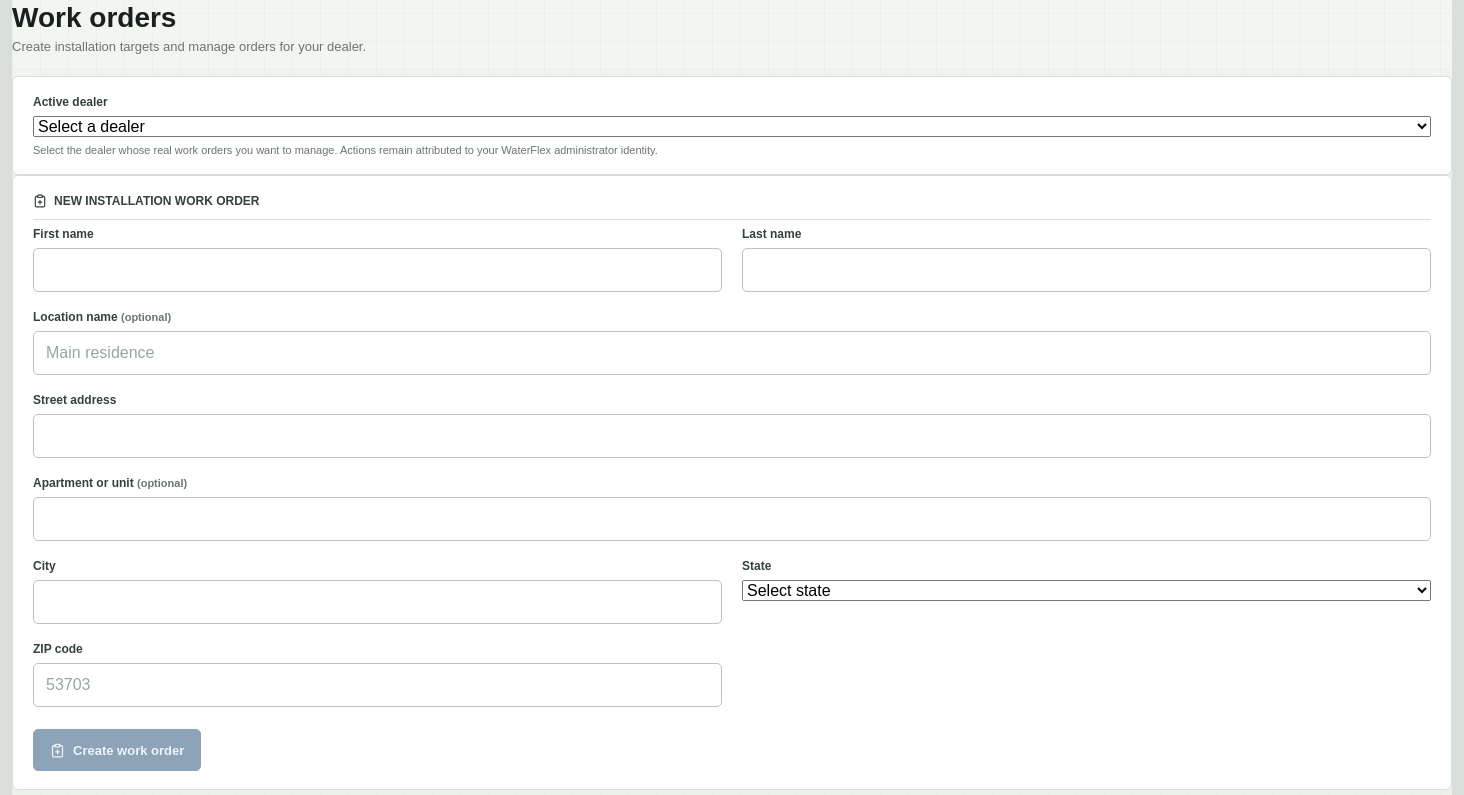
it: WorkOrdersPage › clears dealer-specific state and refreshes when the preview dealer changes
Select "North Star Water Systems" in the dropdown labelled "Active dealer". click: (732, 127)
box: [33,116,1431,137]
(page scrolled)
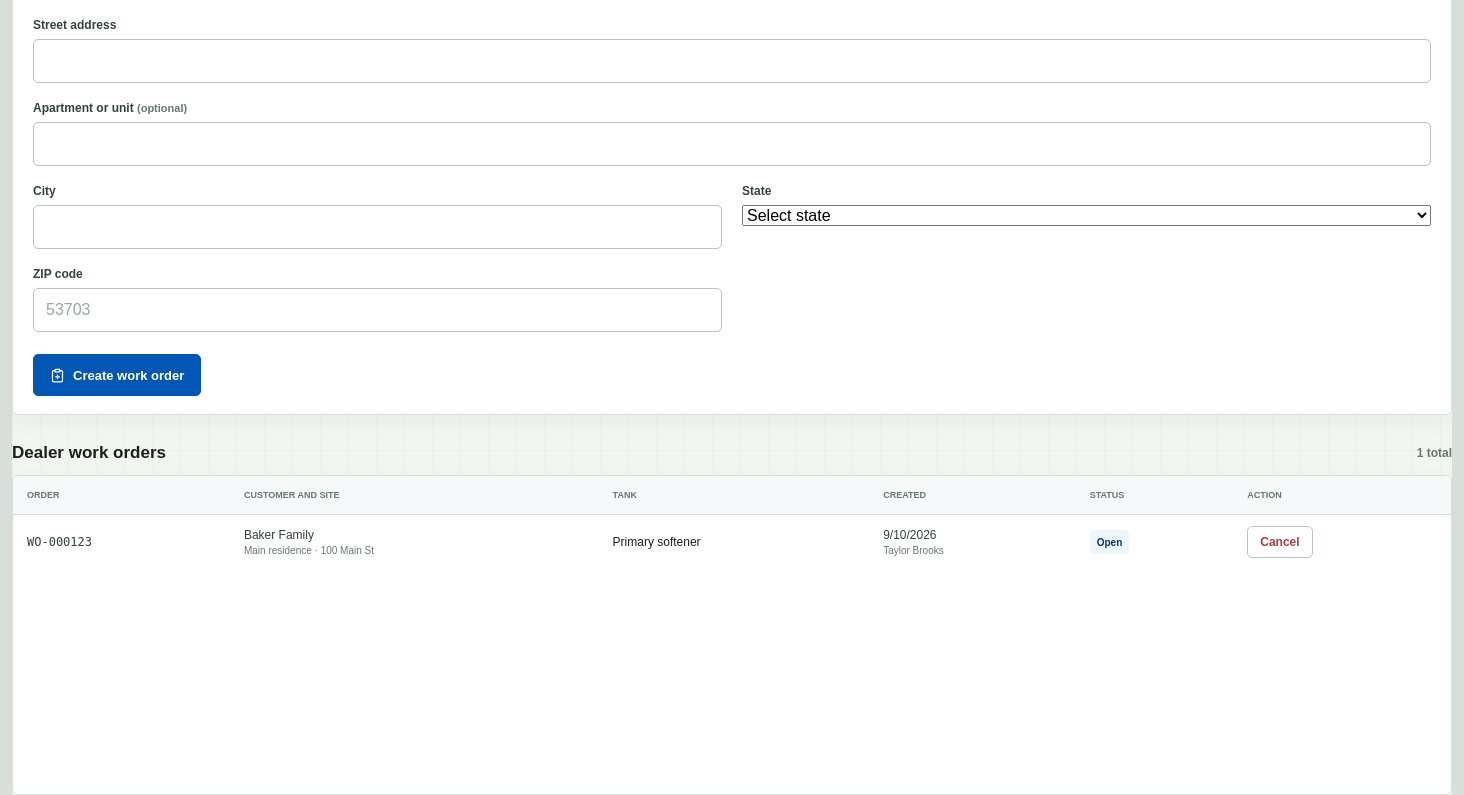
Check: the text "WO-000123" is shown, box [27,535,92,549]
Click the button "Cancel". click: (1280, 542)
box: [1247,526,1313,558]
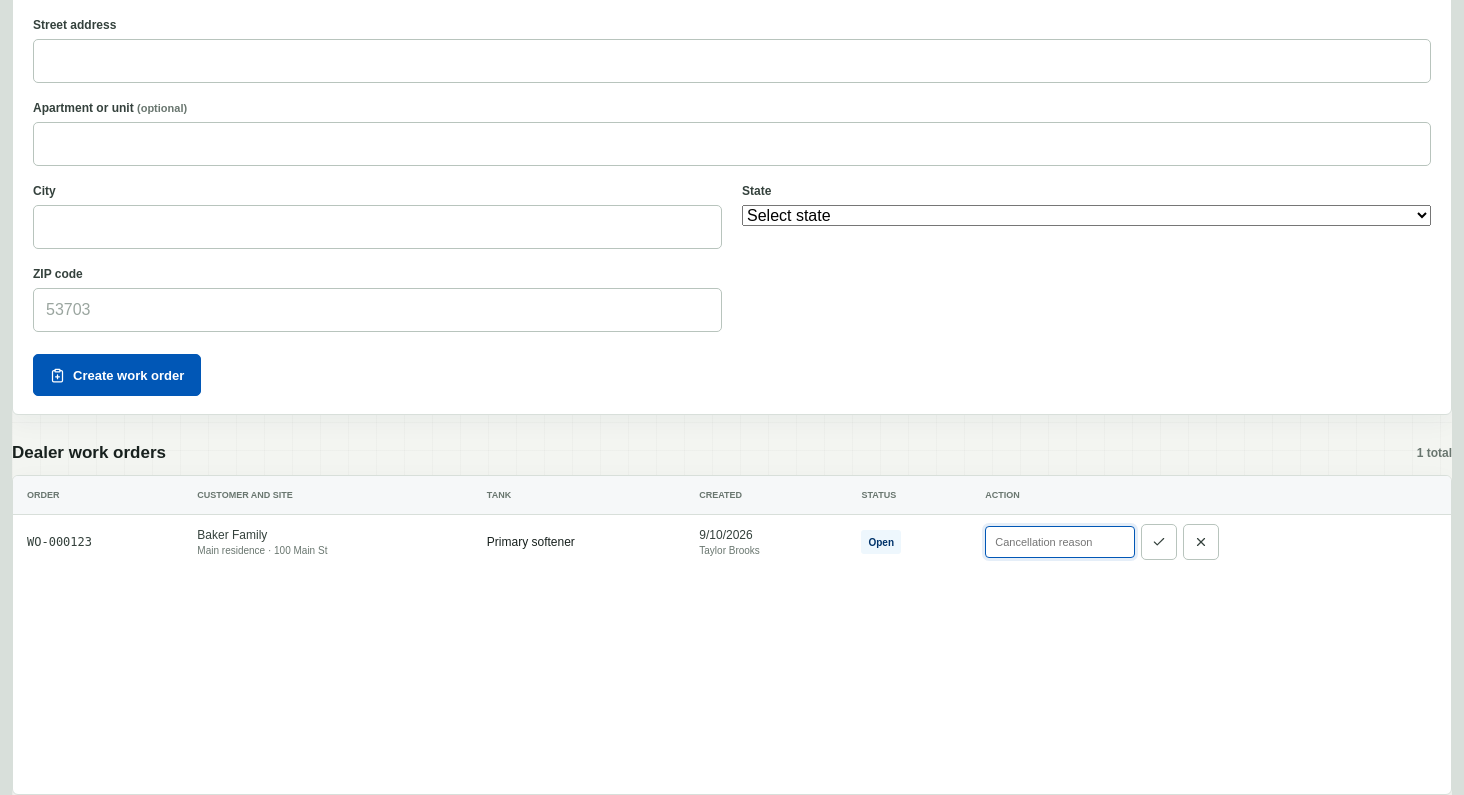
Type "Not for this dealer" into the field labelled "Cancellation reason". click: (1060, 542)
box: [985,526,1135,558]
(page scrolled)
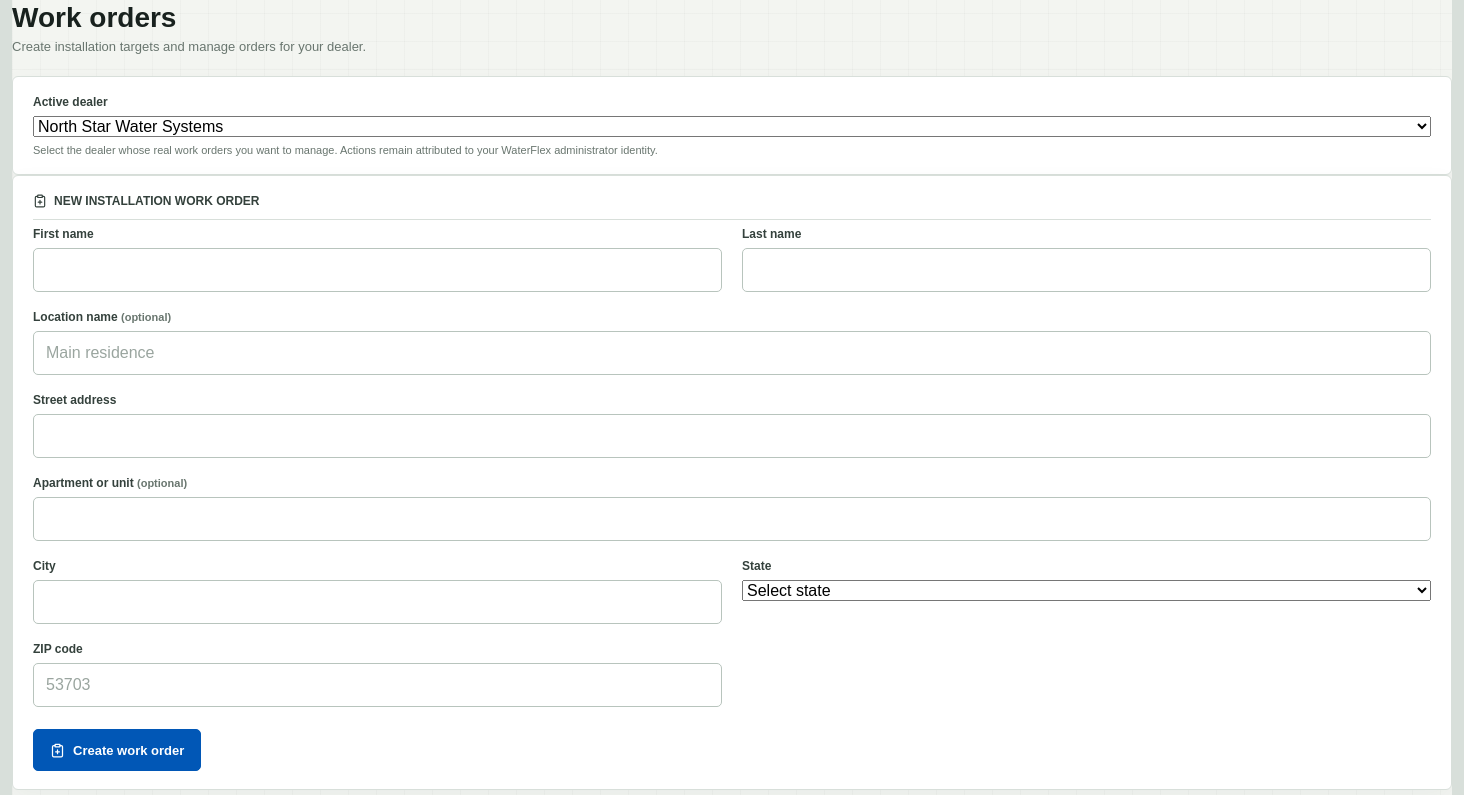
Select "Lakes Water Conditioning" in the dropdown labelled "Active dealer". click: (732, 127)
box: [33,116,1431,137]
(page scrolled)
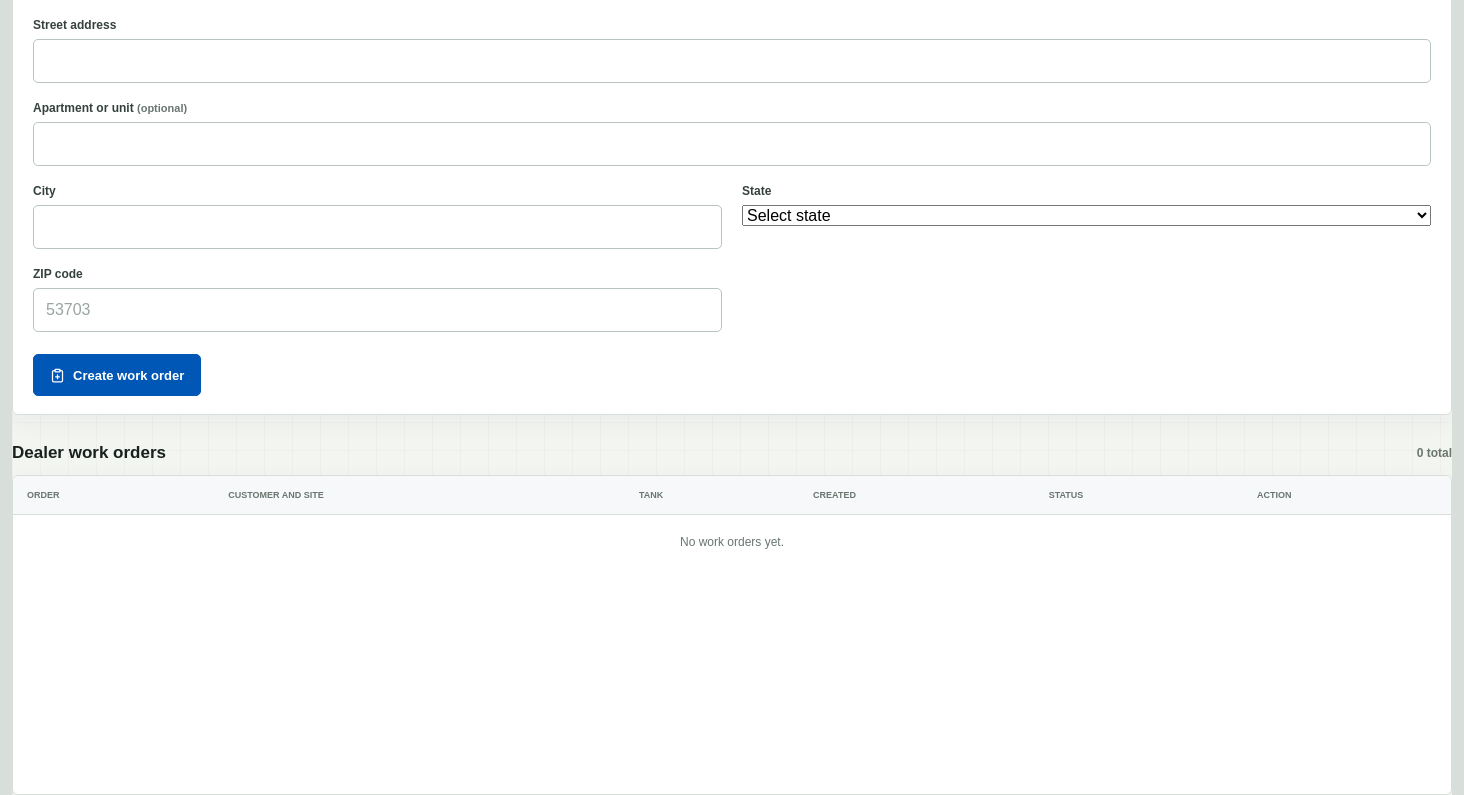
Check: the field labelled "Cancellation reason" is not shown
Check: the text "No work orders yet." is shown, box [13,514,1451,570]
